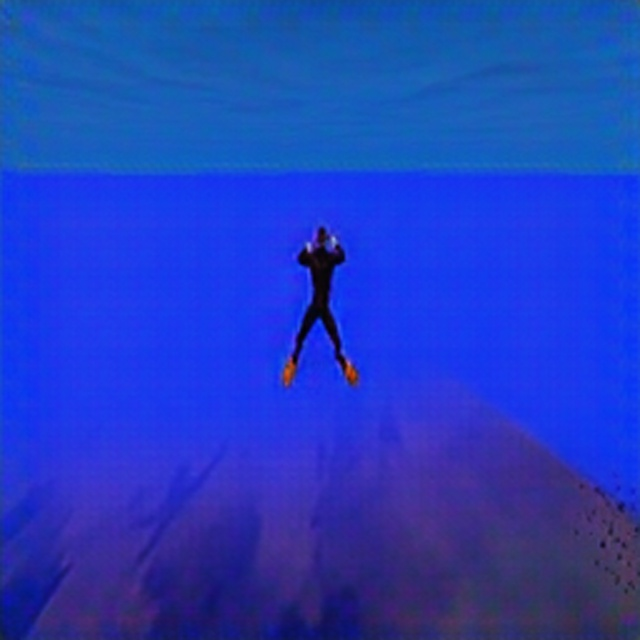diver: (292, 218, 357, 388)
